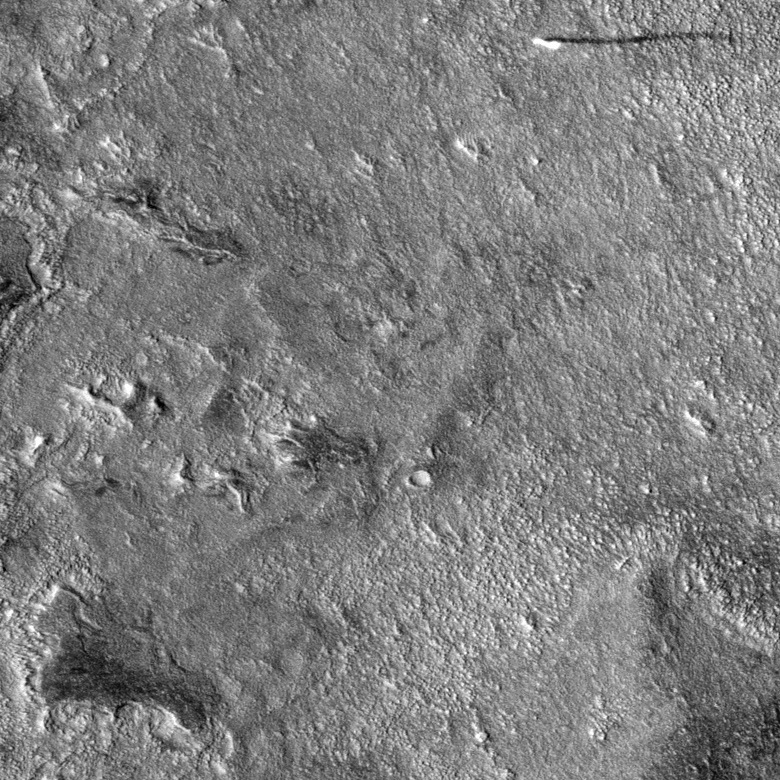dust_devil: (530, 30, 739, 50)
